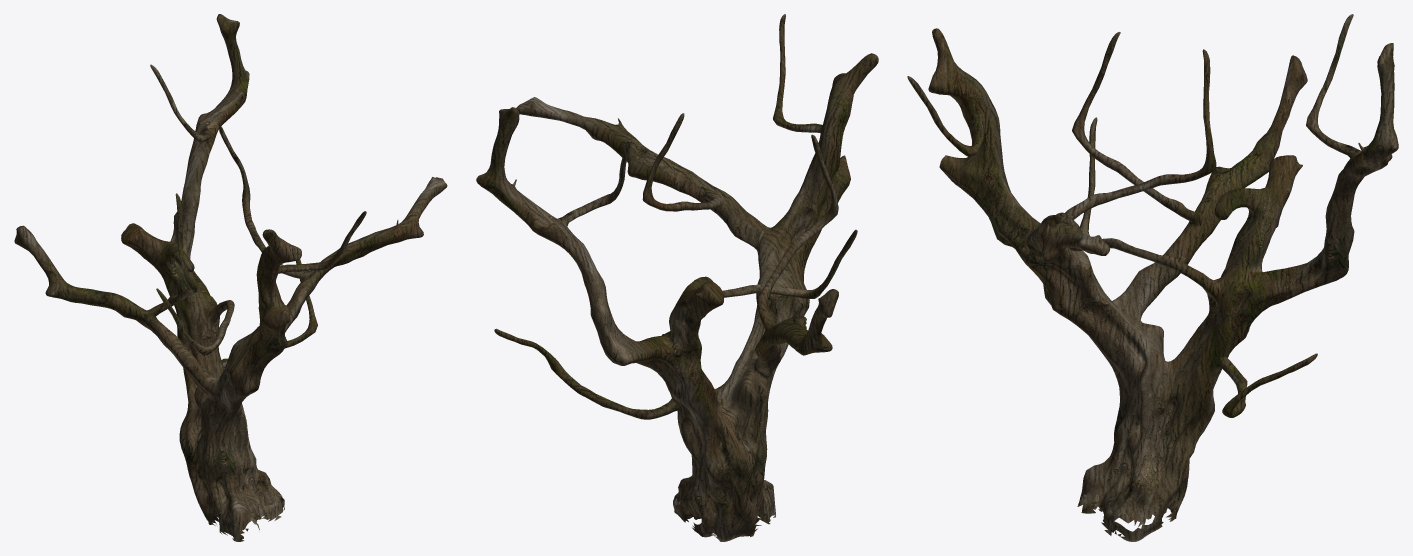
The model's file is RF3_Ancient_Tree_A.fbx.
3 renders of one model, left to right at view 1: azimuth 30°, elevation 25°; view 2: azimuth 150°, elevation 25°; view 3: azimuth 270°, elevation 25°, orthographic. The views are drawn at different scales.
Visible parts, largest first — view 1: RF3_Ancient_Tree_A; view 2: RF3_Ancient_Tree_A; view 3: RF3_Ancient_Tree_A.
Part boxes in pixels (bbox=[...]): RF3_Ancient_Tree_A: bbox=[14, 14, 447, 541]; RF3_Ancient_Tree_A: bbox=[476, 14, 878, 541]; RF3_Ancient_Tree_A: bbox=[907, 14, 1398, 541].
Bounding box in the file's own units: 2024 × 2271 × 1918.
